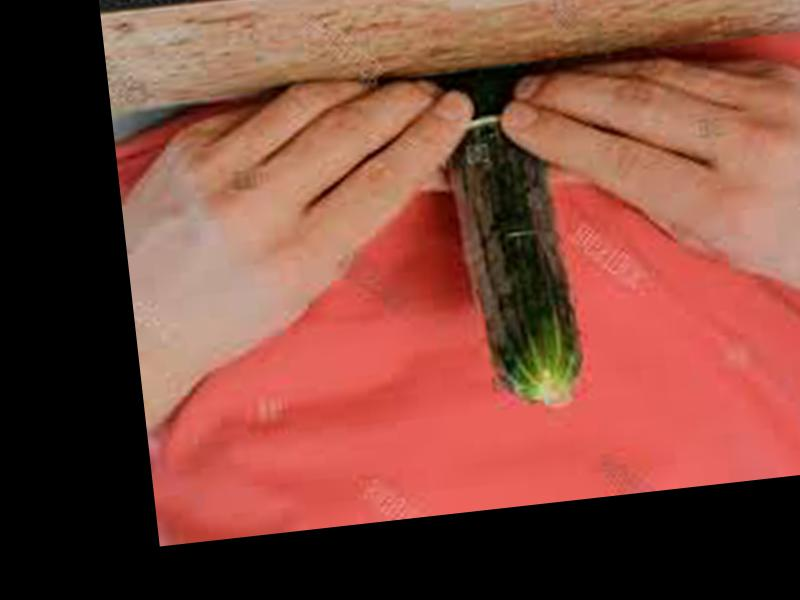Cucumber: (439, 64, 588, 412)
